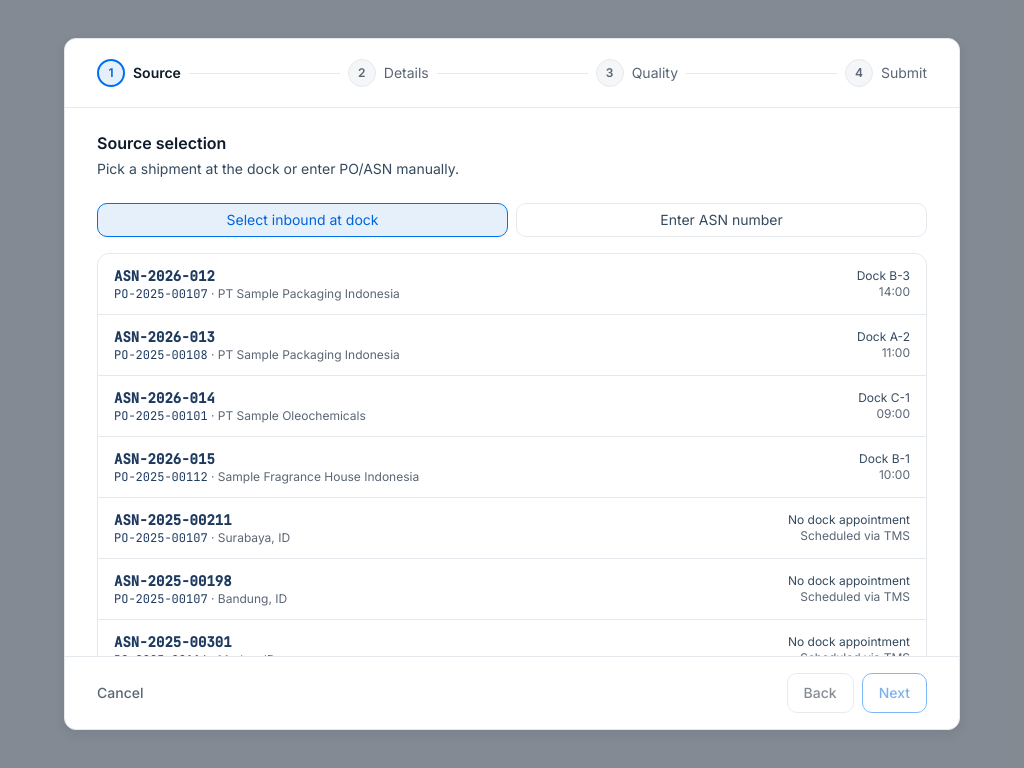
Test: GRInspectionWizard — the BPOM gate reads the master and fails closed › POSITIVE TWIN — a determined NOT_APPLICABLE line shows no BPOM check and no BPOM refusal
This screenshot has width=1024, height=768.
What coordinates should you click on to do the following:
click the text "ASN-2026-012"
I would click on:
 (164, 276)
Its box is 114,267 -> 215,285.
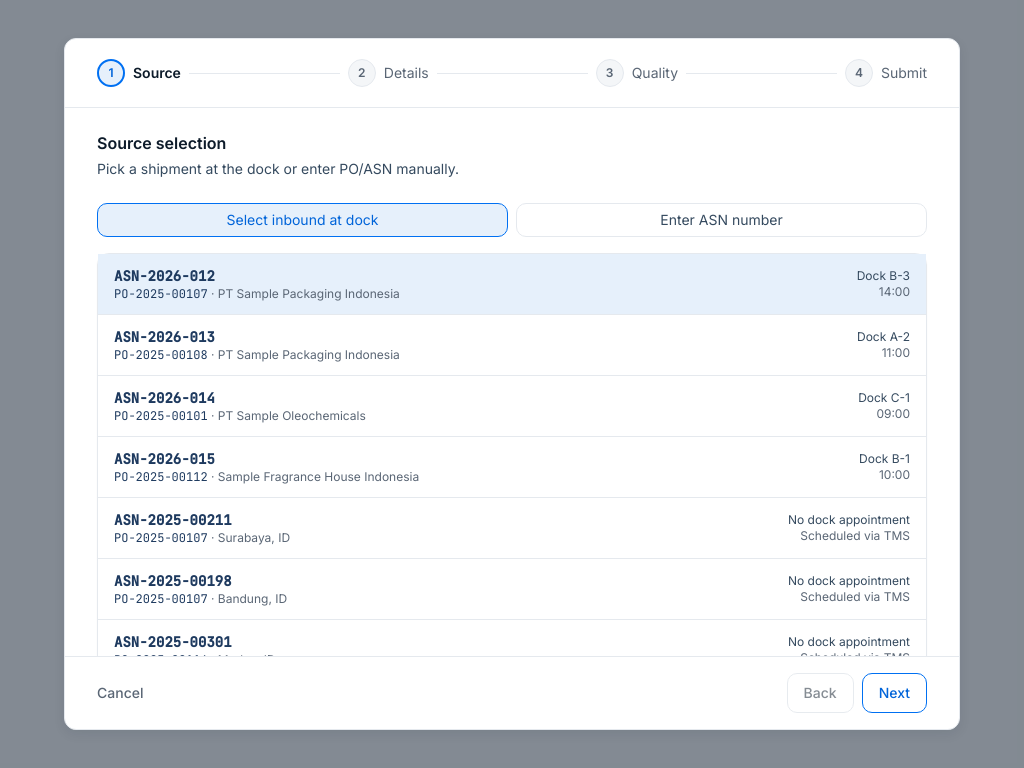
What coordinates should you click on to do the following:
click the button "Next"
I would click on:
 (894, 693)
Its box is 862,673 -> 927,713.
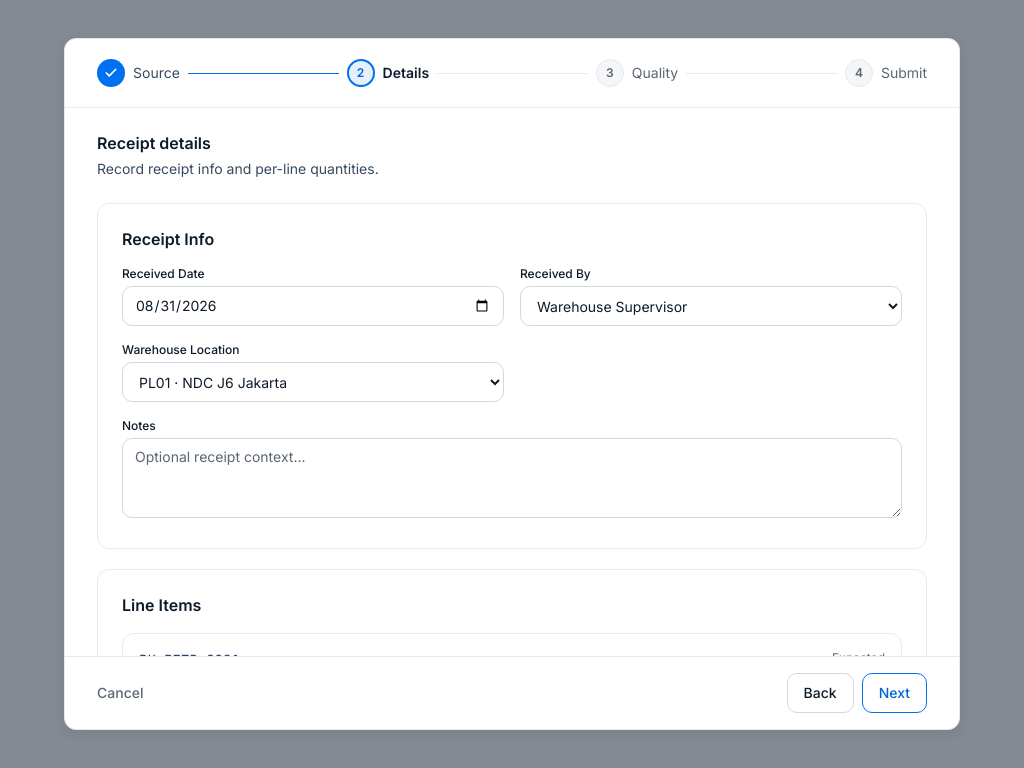
What coordinates should you click on to do the following:
click the button "Next"
I would click on:
 (894, 693)
Its box is 862,673 -> 927,713.
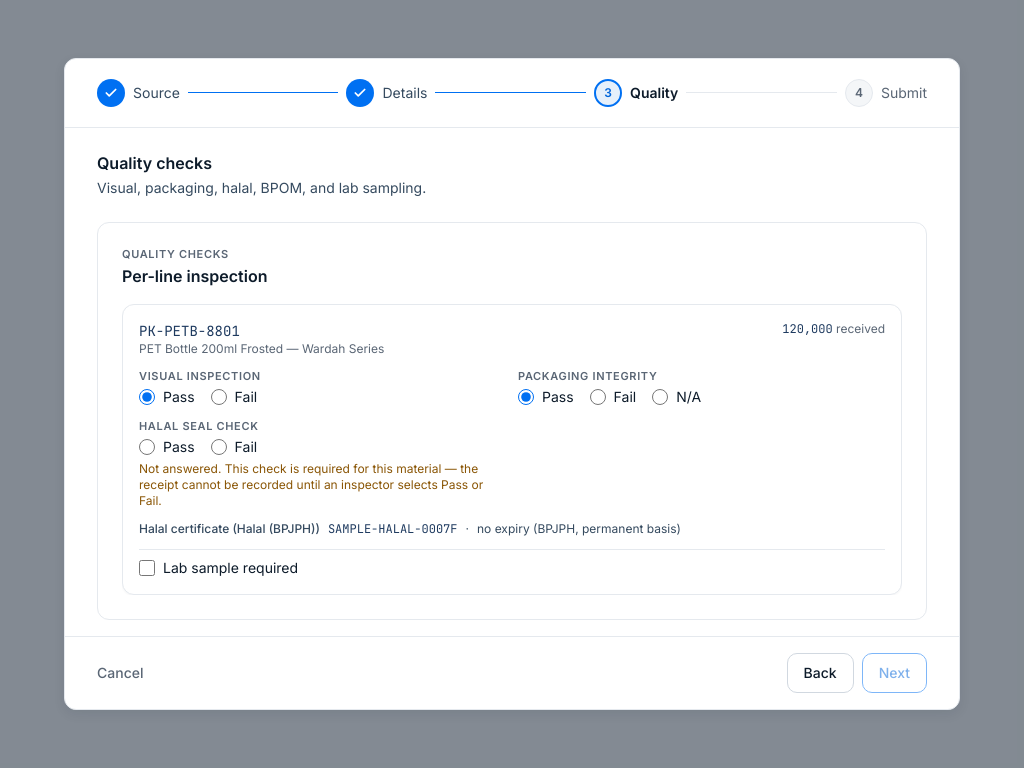
Expected: the button "Next" is disabled, 862,653 -> 927,693
What coordinates should you click on to do the following:
click the radio button labelled "Pass" below "Halal Seal Check"
I would click on:
 (147, 447)
Its box is 139,439 -> 155,455.
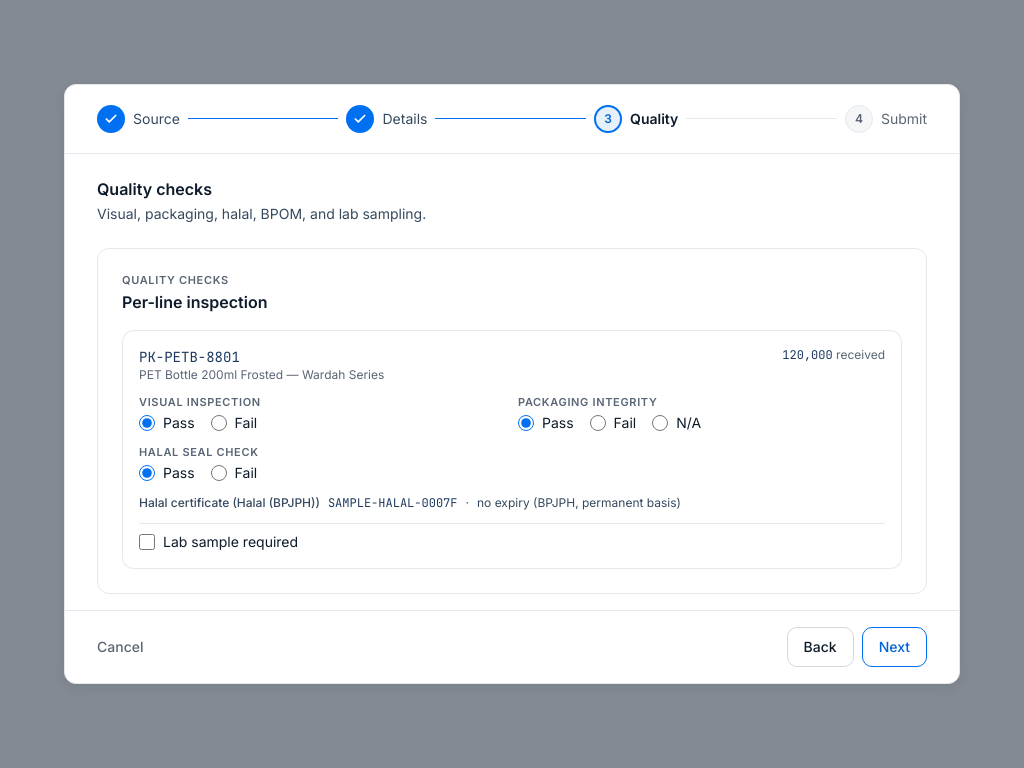
Expected: the button "Next" is enabled, 862,627 -> 927,667
